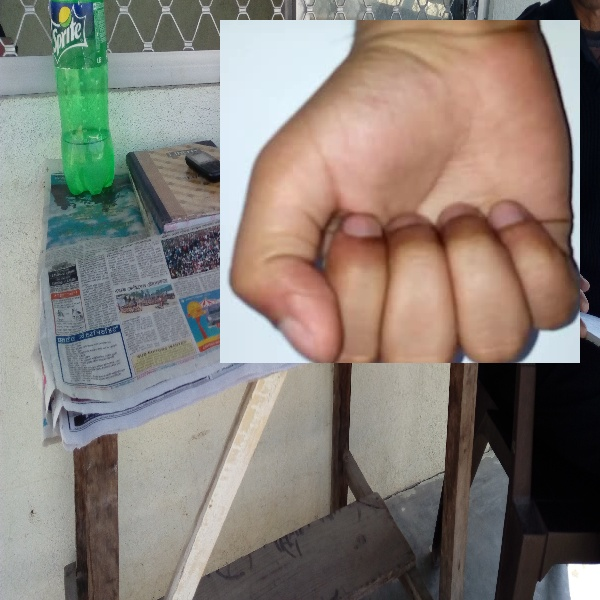A: (220, 20, 580, 363)
